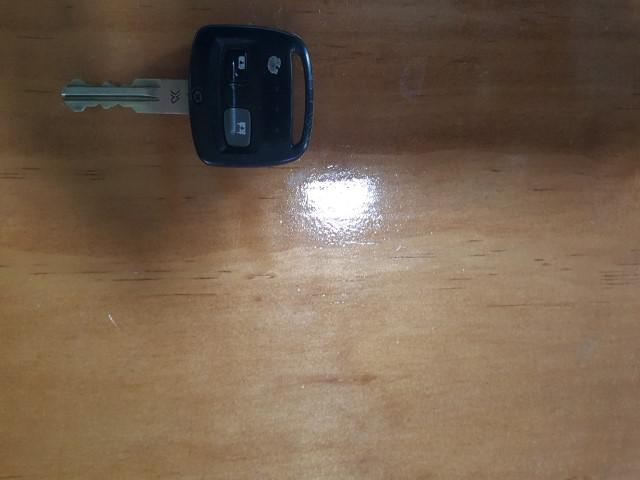key: (62, 23, 330, 330)
